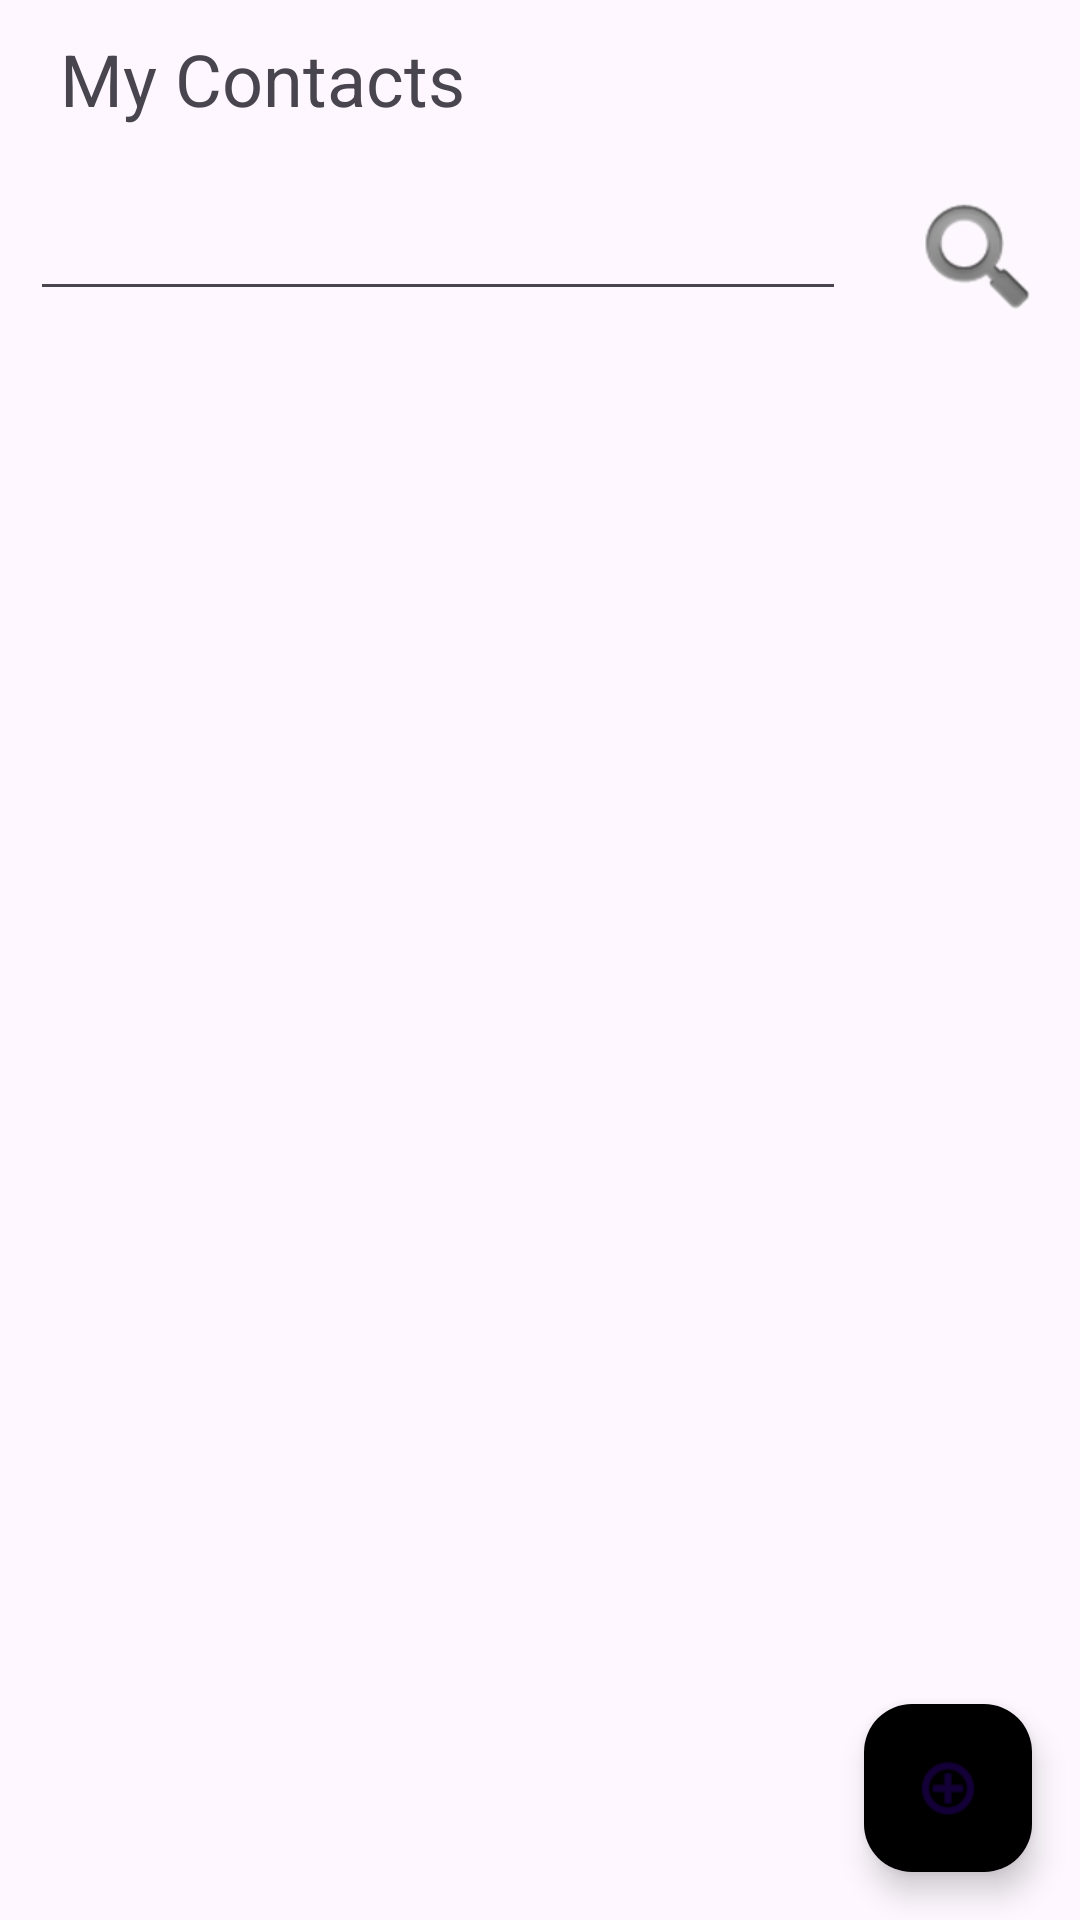

Screen size 1080px x 1920px. Icon name, then its center in pixels as (x=x, y=y):
add: (x=948, y=1788)
search category: (x=977, y=256)
